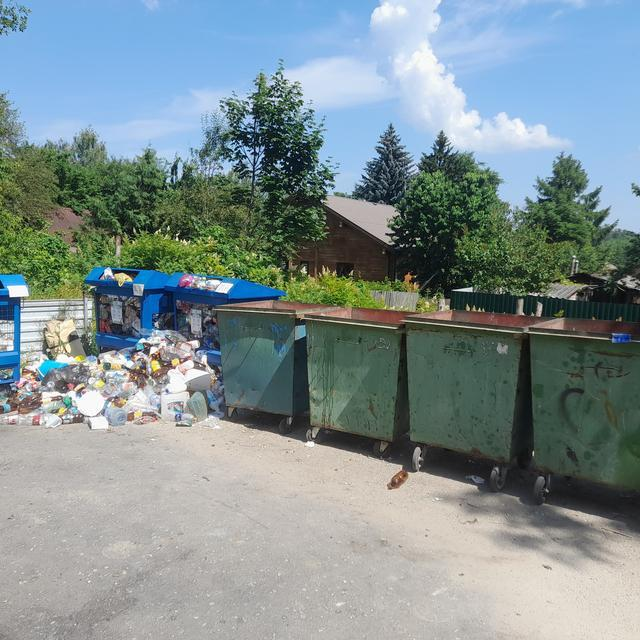Trash_Can_Empty: (403, 308, 551, 465), (527, 316, 640, 493), (304, 305, 418, 442), (212, 299, 332, 415)
Trash_Can_Full: (165, 272, 287, 364), (85, 267, 174, 349)
